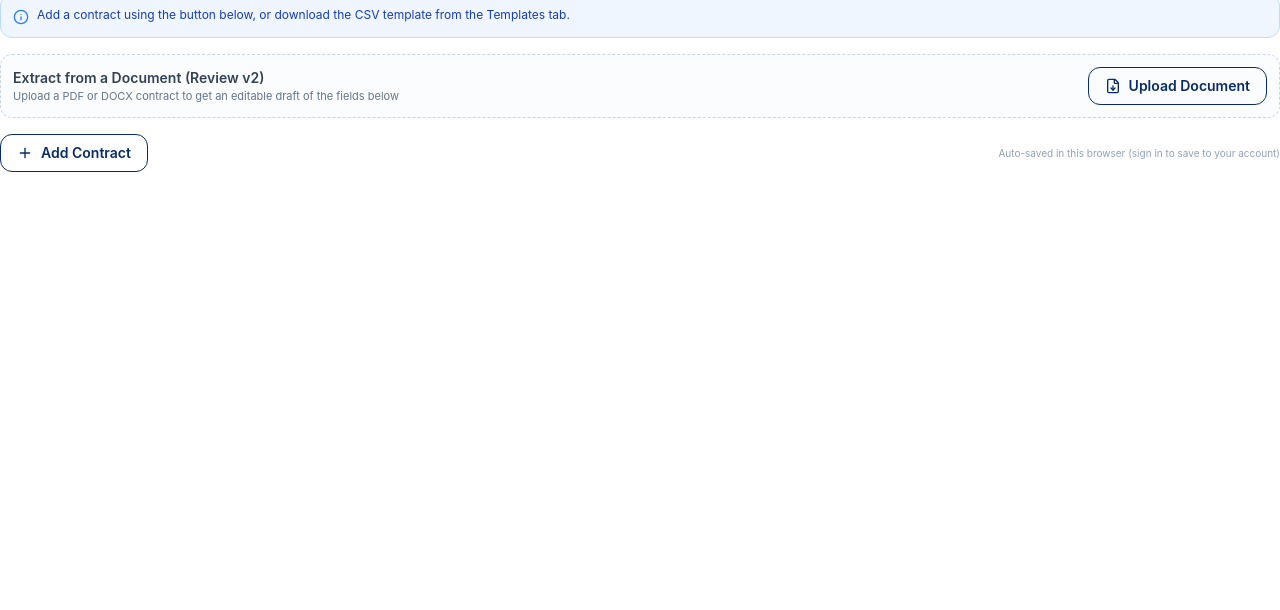
Test: Review -- Apply Best-Practice Defaults button gating › renders the NDA-labeled button for an NDA contract
The width and height of the screenshot is (1280, 610).
Click the button "Add Contract": [74, 153] box [0,134,148,172]
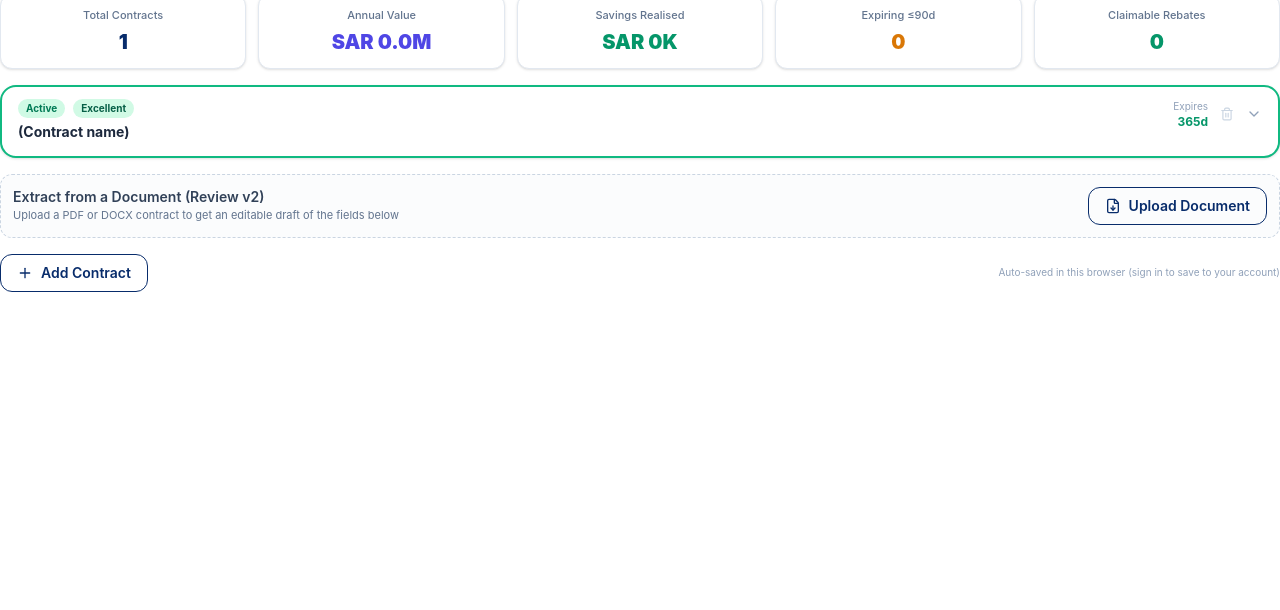
Click the text "(Contract name)": [74, 131] box [18,122,130,140]
(page scrolled)
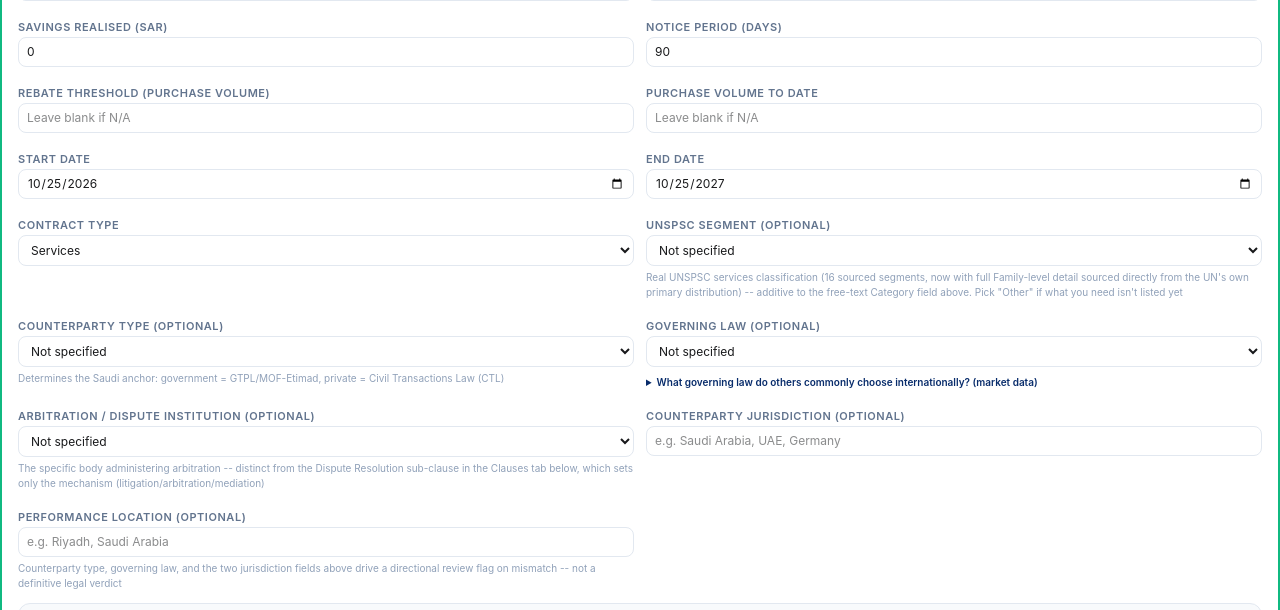
Select "Non-Disclosure Agreement" in the dropdown showing "Services" below "Contract Type": [326, 250] box [18,234,634,266]
(page scrolled)
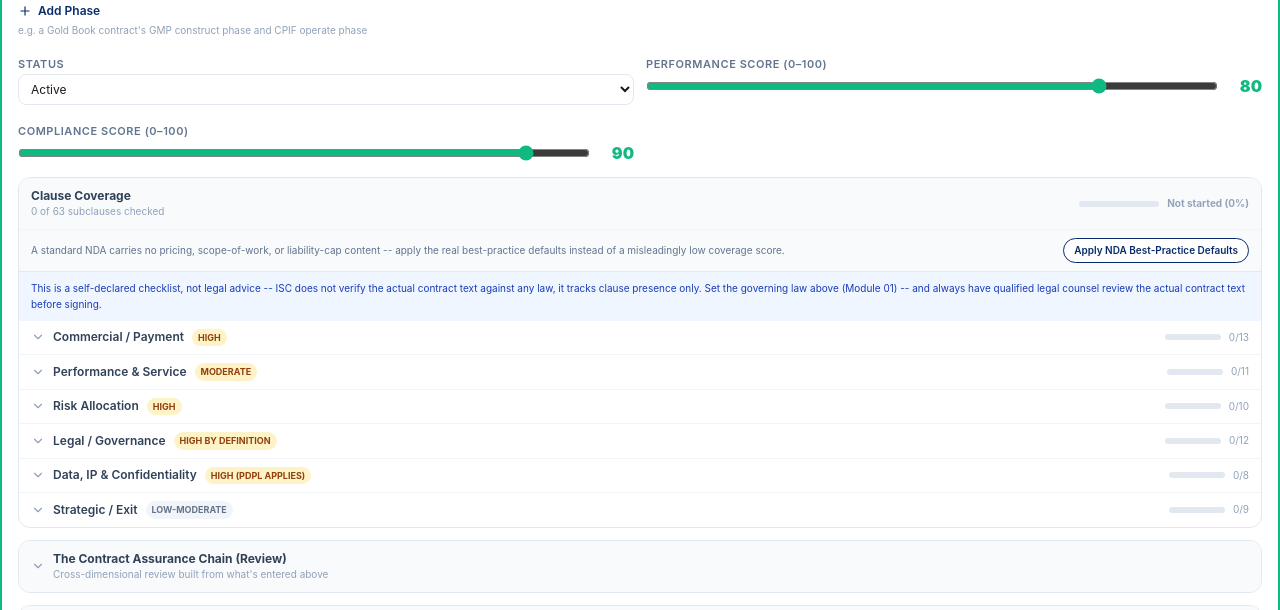
Now the button "Apply NDA Best-Practice Defaults" is shown, box [1063,238,1249,263]
